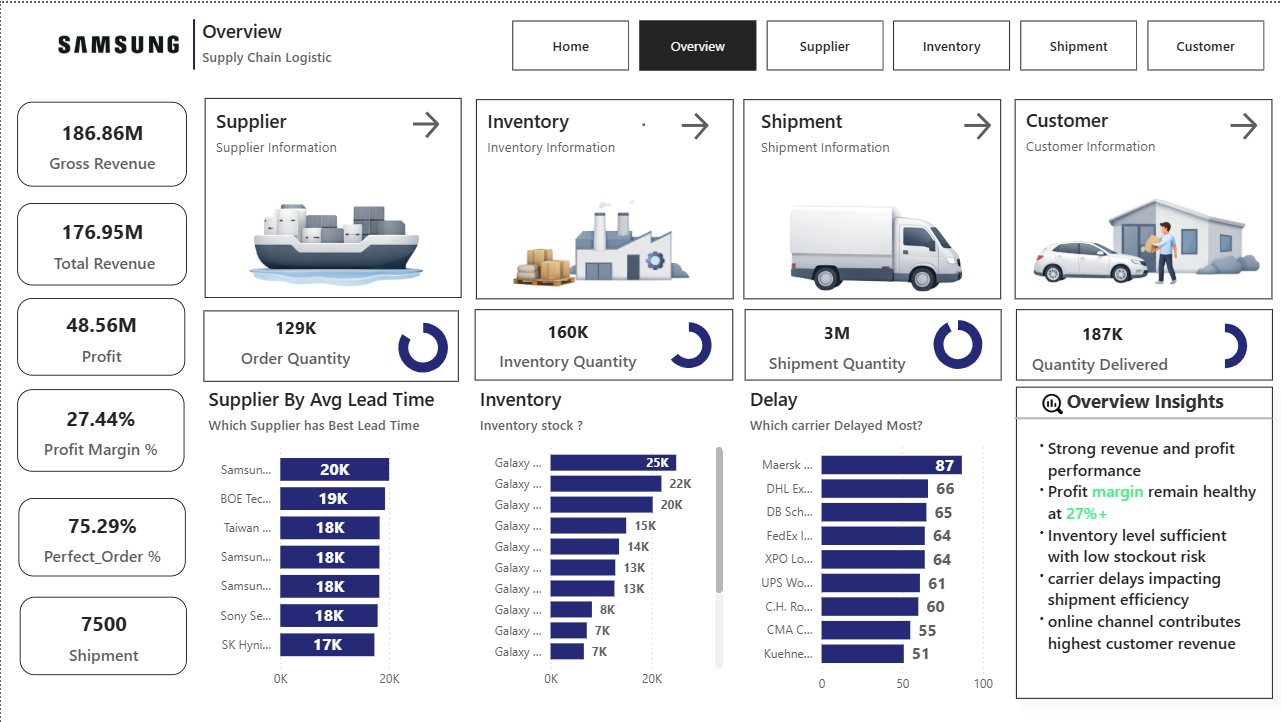

This screenshot's page, from the dashboard's own definition file:
{"tool":"powerbi","page":{"name":"Overview","canvas":[1280,720],"ordinal":1},"visuals":[{"type":"shape","box":[1014.3,96,257.4,200.3],"z":0},{"type":"shape","box":[743,96,257.4,200.3],"z":1000},{"type":"image","box":[772.2,175.3,199,125.2],"z":2000},{"type":"shape","box":[474.4,96,257.4,200.3],"z":3000},{"type":"image","box":[1022.6,173.9,257.4,122.4],"z":4000},{"type":"actionButton","box":[637,103.3,10.2,35.7],"z":5000},{"type":"shape","title":"Inventory","box":[486.7,105.2,152.9,55],"z":6000},{"type":"shape","title":"Shipment","box":[759.4,105.2,154.1,55],"z":7000},{"type":"image","box":[492.5,154.4,203.1,161.4],"z":8000},{"type":"shape","title":"Overview","box":[201.7,15.3,235.1,71],"z":9000},{"type":"shape","box":[16.9,15.7,351.1,50.7],"z":10000},{"type":"image","box":[0,16.2,235,50],"z":11000},{"type":"card","fields":{"Values":["MeasuresTable.Profit"]},"box":[16.7,295,168.3,77.9],"z":12000},{"type":"actionButton","box":[397.5,103.8,50,36.2],"z":13000},{"type":"card","fields":{"Values":["MeasuresTable.Profit Margin %"]},"box":[16.7,386.8,167,82.1],"z":14000},{"type":"card","fields":{"Values":["MeasuresTable.Perfect_Order %"]},"box":[17.1,495.2,167.5,78.3],"z":15000},{"type":"shape","title":"Customer","box":[1024.7,103.9,152.9,56.3],"z":16000},{"type":"card","fields":{"Values":["MeasuresTable.1 Total_Revenue"]},"box":[16.7,200.3,169.7,82.1],"z":17000},{"type":"card","fields":{"Values":["Sum(fact_sales.gross_revenue)"]},"box":[16.7,98.8,169.7,84.9],"z":18000},{"type":"shape","box":[203,306.9,255.6,70.9],"z":19000},{"type":"shape","box":[473.2,305.7,258,70.9],"z":20000},{"type":"shape","box":[743.5,305.7,256.8,70.9],"z":21000},{"type":"shape","box":[1015,305.7,256.8,70.9],"z":22000},{"type":"card","fields":{"Values":["MeasuresTable.Order_QTY"]},"box":[234.9,302.3,119.8,69.8],"z":23000},{"type":"card","fields":{"Values":["MeasuresTable.1 Inventory_Value"]},"box":[493,305.8,148.8,69.8],"z":24000},{"type":"card","fields":{"Values":["MeasuresTable.Total_Shipment_Quantity"]},"box":[760.6,306.9,152.9,69.7],"z":25000},{"type":"card","fields":{"Values":["MeasuresTable.Total_Delivered_Quantity"]},"box":[1024.7,308.2,152.9,69.7],"z":26000},{"type":"barChart","title":"Supplier By Avg Lead Time","fields":{"Y":["MeasuresTable.Order_QTY","MeasuresTable.Avg_Lead_Time"],"Category":["dim_supplier.supplier_name"]},"box":[202.9,382.6,255.1,311.6],"z":27000},{"type":"barChart","title":"Inventory","fields":{"Y":["MeasuresTable.Inventory_Value"],"Category":["dim_product.product_name"]},"box":[473.9,382.6,253.6,311.6],"z":28000},{"type":"donutChart","fields":{"Y":["MeasuresTable.Order_QTY","MeasuresTable.Defect_Rate"]},"box":[386.4,308.2,72.1,72.1],"z":29000},{"type":"donutChart","fields":{"Y":["MeasuresTable.Inventory_Value","MeasuresTable.Safety_Stock"]},"box":[646.9,308.2,80.7,67.3],"z":30000},{"type":"shape","box":[203.3,95,256.7,200],"z":30500},{"type":"donutChart","fields":{"Y":["MeasuresTable.Total_Shipment","MeasuresTable.Total_Delay"]},"box":[913.5,305.7,86.8,70.9],"z":31000},{"type":"donutChart","fields":{"Y":["MeasuresTable.Total_Delivered_Quantity","MeasuresTable.Total_QTY_Delay"]},"box":[1177.6,310.6,92.9,66],"z":32000},{"type":"pageNavigator","box":[511.1,17.1,753.3,50.1],"z":33000},{"type":"actionButton","box":[675,105.2,40.4,36.7],"z":34000},{"type":"actionButton","box":[957.5,105.2,40.4,36.7],"z":35000},{"type":"actionButton","box":[1224.1,105.2,40.4,36.7],"z":36000},{"type":"card","fields":{"Values":["MeasuresTable.Total_Shipment"]},"box":[18.3,594.3,167.5,78.3],"z":37000},{"type":"shape","title":"Supplier","box":[215,105,153.8,55],"z":38000},{"type":"actionButton","box":[406.2,103.8,91.2,36.2],"z":39000},{"type":"image","box":[228.8,173.8,203.8,116.2],"z":40000},{"type":"barChart","title":"Delay ","fields":{"Category":["fact_shipment.carrier"],"Y":["MeasuresTable.Total_Delay"]},"box":[743.5,382.6,258,315.9],"z":41000},{"type":"shape","title":"Overview Insights","box":[1015,383.3,256.7,311.7],"z":42000},{"type":"image","box":[1040,386.7,23.3,30],"z":43000},{"type":"shape","box":[1013.3,402.2,257.8,25.6],"z":44000},{"type":"textbox","box":[1023.3,428.3,238.3,253.3],"z":45000}]}

Visuals, with their boxes in screenshot pixels (x1, y1, x2, y2), scaled from the page's 1280x720 canvas onto the 1281x722 screenshot:
shape: 1015:96:1273:297
shape: 744:96:1001:297
image: 773:176:972:301
shape: 475:96:732:297
image: 1023:174:1280:297
actionButton: 637:104:648:139
"Inventory" shape: 487:105:640:161
"Shipment" shape: 760:105:914:161
image: 493:155:696:317
"Overview" shape: 202:15:437:87
shape: 17:16:368:67
image: 0:16:235:66
card - MeasuresTable.Profit: 17:296:185:374
actionButton: 398:104:448:140
card - MeasuresTable.Profit Margin %: 17:388:184:470
card - MeasuresTable.Perfect_Order %: 17:497:185:575
"Customer" shape: 1026:104:1179:161
card - MeasuresTable.1 Total_Revenue: 17:201:187:283
card - Sum(fact_sales.gross_revenue): 17:99:187:184
shape: 203:308:459:379
shape: 474:307:732:378
shape: 744:307:1001:378
shape: 1016:307:1273:378
card - MeasuresTable.Order_QTY: 235:303:355:373
card - MeasuresTable.1 Inventory_Value: 493:307:642:377
card - MeasuresTable.Total_Shipment_Quantity: 761:308:914:378
card - MeasuresTable.Total_Delivered_Quantity: 1026:309:1179:379
"Supplier By Avg Lead Time" barChart: 203:384:458:696
"Inventory" barChart: 474:384:728:696
donutChart - MeasuresTable.Order_QTY x MeasuresTable.Defect_Rate: 387:309:459:381
donutChart - MeasuresTable.Inventory_Value x MeasuresTable.Safety_Stock: 647:309:728:377
shape: 203:95:460:296
donutChart - MeasuresTable.Total_Shipment x MeasuresTable.Total_Delay: 914:307:1001:378
donutChart - MeasuresTable.Total_Delivered_Quantity x MeasuresTable.Total_QTY_Delay: 1179:311:1271:378
pageNavigator: 511:17:1265:67
actionButton: 676:105:716:142
actionButton: 958:105:999:142
actionButton: 1225:105:1265:142
card - MeasuresTable.Total_Shipment: 18:596:186:674
"Supplier" shape: 215:105:369:160
actionButton: 407:104:498:140
image: 229:174:433:291
"Delay " barChart: 744:384:1002:700
"Overview Insights" shape: 1016:384:1273:697
image: 1041:388:1064:418
shape: 1014:403:1272:429
textbox: 1024:429:1263:683
